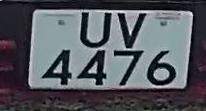4: (37, 46, 77, 88), (73, 48, 112, 88)
6: (143, 49, 179, 88)
7: (109, 48, 148, 88)
U: (74, 10, 115, 51)
V: (113, 10, 149, 52)
